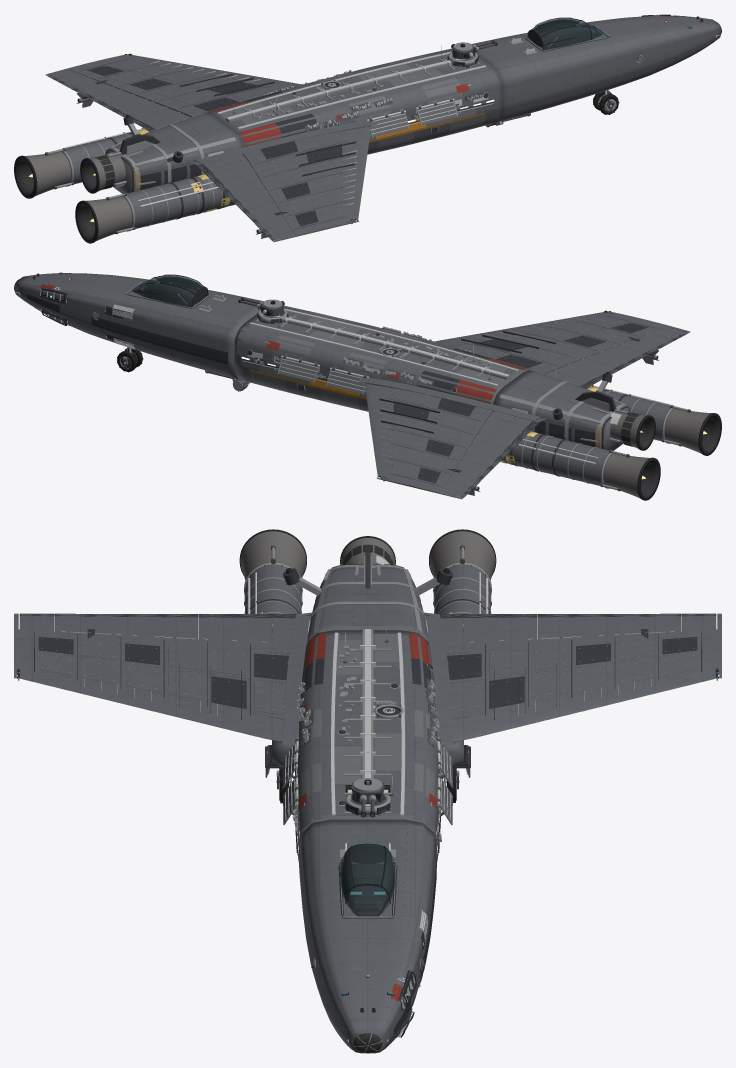
File: starship.glb
3 renders of one model, top to bottom at view 1: azimuth 30°, elevation 25°; view 2: azimuth 150°, elevation 25°; view 3: azimuth 270°, elevation 25°, orthographic. The views are drawn at different scales.
Visible parts, largest first — view 1: wing_port, hull_fore, wing_stbd, hull_mid, mid_armor_up_port, hull_aft, aft_pod_p, mid_deck_plating_port, mid_dorsal_keel, mid_deck_plating_stbd, mid_armor_low_port, aft_bell_s (+22 smaller); view 2: wing_stbd, wing_port, hull_fore, hull_mid, mid_armor_up_stbd, hull_aft, aft_pod_s, mid_deck_plating_stbd, armor_chine_p, armor_shoulder_p, mid_dorsal_keel, mid_armor_low_stbd (+26 smaller); view 3: wing_stbd, wing_port, hull_fore, hull_mid, hull_aft, mid_deck_plating_port, mid_deck_plating_stbd, mid_armor_up_port, mid_armor_up_stbd, armor_shoulder_p, aft_pod_s, aft_pod_p (+12 smaller).
Part boxes in pixels (x1,y1,x2,y2): wing_port: (190, 120, 376, 242); hull_fore: (475, 16, 720, 122); wing_stbd: (45, 53, 300, 131); hull_mid: (207, 50, 501, 154); mid_armor_up_port: (238, 69, 499, 146); hull_aft: (105, 113, 242, 193); aft_pod_p: (122, 176, 235, 228); mid_deck_plating_port: (240, 61, 483, 124); mid_dorsal_keel: (226, 56, 474, 122); mid_deck_plating_stbd: (219, 54, 448, 118); mid_armor_low_port: (367, 112, 486, 154); aft_bell_s: (24, 151, 71, 196); wing_stbd: (359, 378, 546, 499); wing_port: (434, 310, 690, 388); hull_fore: (15, 273, 264, 379); hull_mid: (234, 307, 528, 411); mid_armor_up_stbd: (236, 326, 496, 403); hull_aft: (493, 370, 630, 450); aft_pod_s: (501, 433, 612, 485); mid_deck_plating_stbd: (260, 322, 504, 384); armor_chine_p: (27, 294, 227, 362); armor_shoulder_p: (33, 282, 237, 329); mid_dorsal_keel: (262, 313, 509, 379); mid_armor_low_stbd: (249, 369, 368, 411); wing_stbd: (423, 612, 721, 746); wing_port: (14, 612, 312, 746); hull_fore: (299, 819, 436, 1053); hull_mid: (298, 630, 438, 867); hull_aft: (307, 567, 428, 641); mid_deck_plating_port: (334, 640, 360, 815); mid_deck_plating_stbd: (375, 634, 401, 808); mid_armor_up_port: (297, 633, 326, 852); mid_armor_up_stbd: (409, 633, 438, 852); armor_shoulder_p: (385, 824, 425, 1009); aft_pod_s: (434, 564, 490, 643); aft_pod_p: (245, 564, 301, 643).
Size of the model in its own units: 32.59 by 4.87 by 19.46.
Materials: 35 (4 with a texture image).
